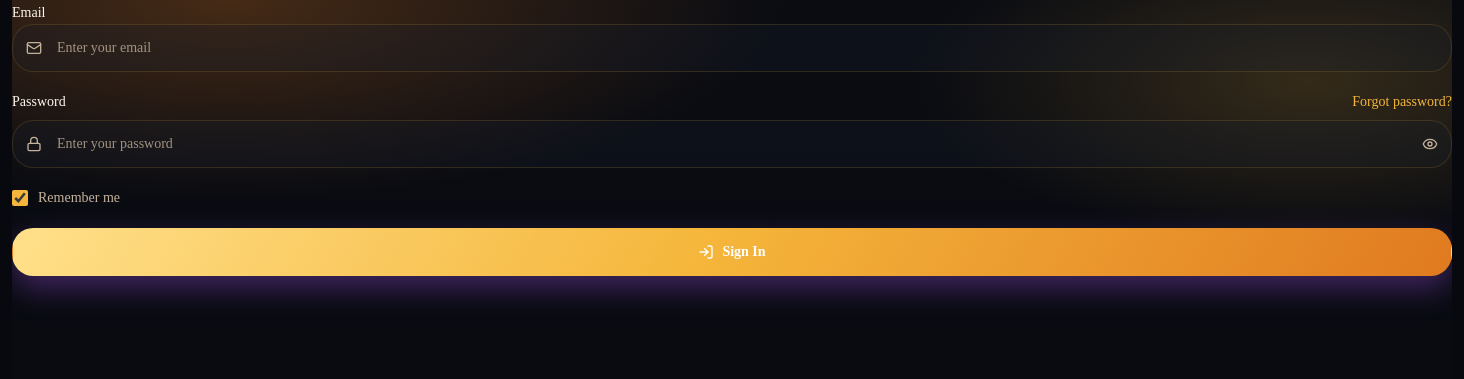
Scenario: LoginForm › shows validation errors for empty submit
The width and height of the screenshot is (1464, 379).
Click the button "Sign In" at (732, 252), box [12,228,1452,276]
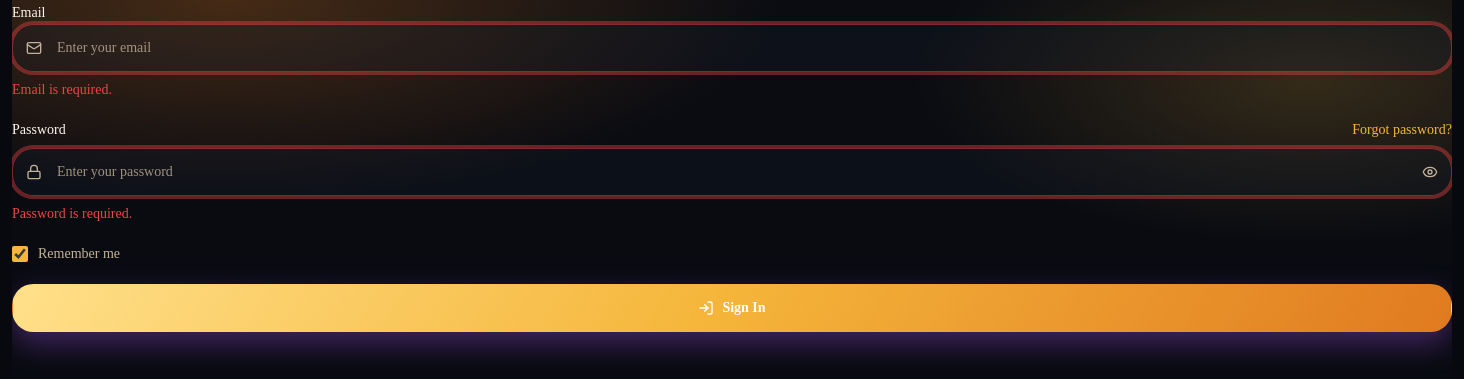
Check: the text "Email is required." is shown, box [12,82,112,97]
Check: the text "Password is required." is shown, box [12,206,132,221]
